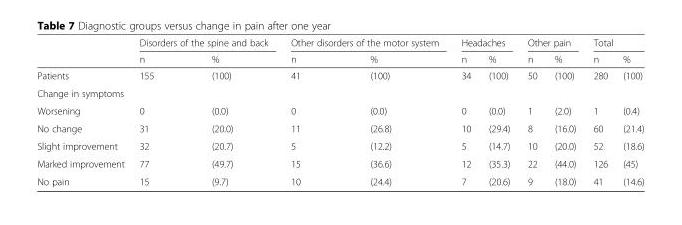table: (36, 36, 643, 186)
table column: (334, 36, 449, 186), (182, 36, 278, 186), (36, 36, 131, 186), (278, 36, 334, 186), (131, 36, 182, 186), (479, 36, 518, 186), (545, 36, 584, 186), (449, 36, 479, 186), (584, 36, 614, 186), (614, 36, 643, 186), (518, 36, 545, 186)
table column header: (36, 36, 643, 66)
table projected row header: (36, 84, 643, 101)
table row: (36, 66, 643, 84), (36, 101, 643, 119), (36, 136, 643, 154), (36, 154, 643, 172), (36, 84, 643, 101), (36, 119, 643, 136), (36, 50, 643, 66), (36, 36, 643, 50), (36, 172, 643, 186)
table spanning cell: (278, 36, 449, 50), (131, 36, 278, 50), (449, 36, 518, 50), (518, 36, 584, 50), (584, 36, 643, 50)
